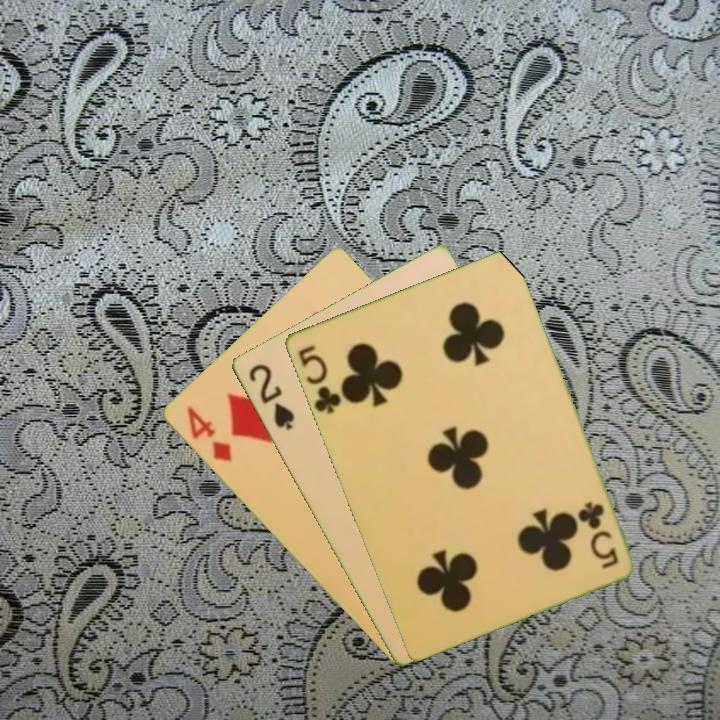2s: (244, 360, 297, 433)
4d: (182, 402, 234, 465)
5c: (294, 341, 344, 417), (575, 498, 621, 572)
